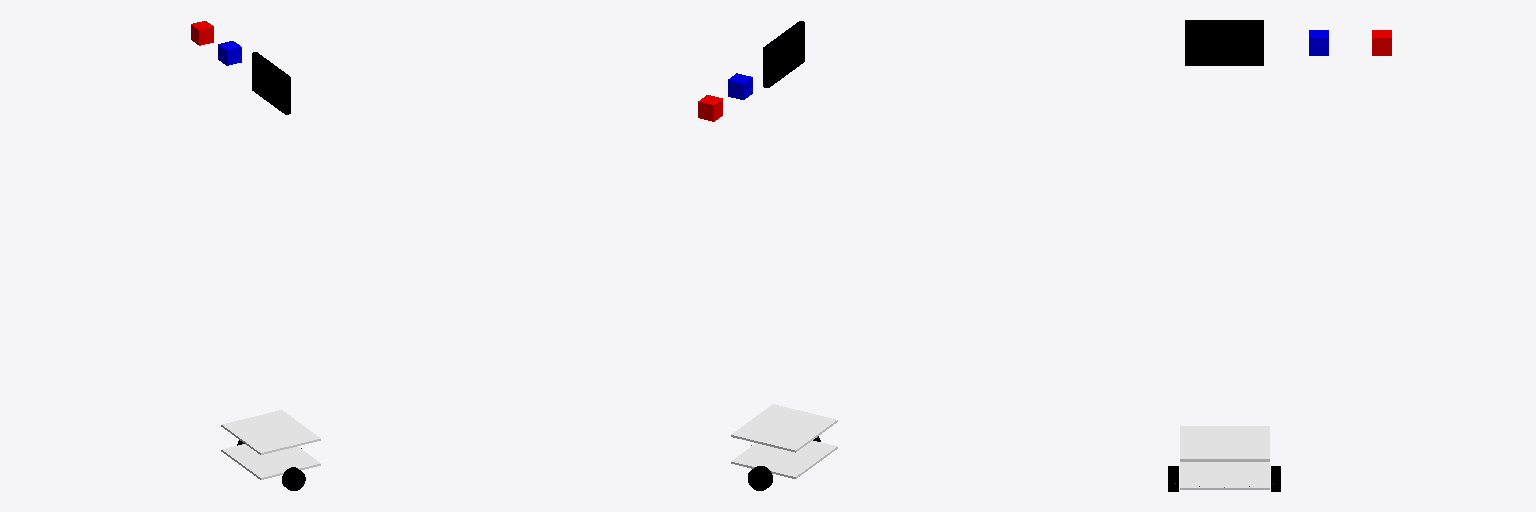
robot.urdf — blah:
<?xml version="1.0" ?>
<!-- =================================================================================== -->
<!-- |    This document was autogenerated by xacro from urdf/navbot.xacro              | -->
<!-- |    EDITING THIS FILE BY HAND IS NOT RECOMMENDED                                 | -->
<!-- =================================================================================== -->
<robot name="blah" xmlns:xacro="http://www.ros.org/wiki/xacro">
  <link name="base_link">
    <visual>
      <geometry>
        <box size="0.001 0.001 0.001"/>
      </geometry>
      <material name="black">
        <color rgba="0 0 0 1"/>
      </material>
    </visual>
  </link>
  <!-- fictitious center point between wheels for navigation -->
  <!--
  <link name="base_link">
    <visual>
      <geometry>
        <box size="0.001 0.001 0.001"/>
      </geometry>
      <material name="black">
        <color rgba="0 0 0 1" />
      </material>
    </visual>
  </link>
-->
  <!-- Bot platforms -->
  <link name="platform_base">
    <visual>
      <geometry>
        <box size="0.2032 0.2286 0.0064"/>
      </geometry>
      <material name="white">
        <color rgba="1 1 1 1"/>
      </material>
    </visual>
  </link>
  <link name="platform_upper">
    <visual>
      <geometry>
        <box size="0.2032 0.2286 0.0064"/>
      </geometry>
      <material name="white">
        <color rgba="1 1 1 1"/>
      </material>
    </visual>
  </link>
  <joint name="platform_joint_base" type="fixed">
    <parent link="base_link"/>
    <child link="platform_base"/>
    <origin rpy="0 0 0" xyz="0 0 0.0178"/>
  </joint>
  <joint name="platform_joint_upper" type="fixed">
    <parent link="base_link"/>
    <child link="platform_upper"/>
    <origin rpy="0 0 0" xyz="0 0 0.0978"/>
  </joint>
  <!--
<link name="kinect_link">
  <visual>
    <geometry>
      <box size="0.064 0.121 0.0381" />
    </geometry>
    <material name="Blue" />
  </visual>
  <inertial>
      <mass value="0.0001" />
      <origin xyz="0 0 0" />
      <inertia ixx="0.0001" ixy="0.0" ixz="0.0"
               iyy="0.0001" iyz="0.0" 
               izz="0.0001" />
  </inertial>
</link>

<joint name="kinect_base_joint" type="fixed">
  <origin xyz="${platform_l / 2} 0 ${wheel_r + wheel_h_offset + 0.08}" rpy="0 0 0" />
  <parent link="base_link" />
  <child link="kinect_link" />
</joint>

<joint name="kinect_depth_joint" type="fixed">
  <origin xyz="0 0.028 0" rpy="0 0 0" />
  <parent link="kinect_link" />
  <child link="kinect_depth_frame" />
</joint>

<link name="kinect_depth_frame">
  <inertial>
      <mass value="0.0001" />
      <origin xyz="0 0 0" />
      <inertia ixx="0.0001" ixy="0.0" ixz="0.0"
               iyy="0.0001" iyz="0.0" 
               izz="0.0001" />
  </inertial>
</link>

<joint name="depth_optical_joint" type="fixed">
  <origin xyz="0 0 0" rpy="-${pi/2} 0 -${pi/2}" />
  <parent link="kinect_depth_frame" />
  <child link="kinect_depth_optical_frame" />
</joint>

<link name="kinect_depth_optical_frame">
  <inertial>
      <mass value="0.0001" />
      <origin xyz="0 0 0" />
      <inertia ixx="0.0001" ixy="0.0" ixz="0.0"
               iyy="0.0001" iyz="0.0" 
               izz="0.0001" />
  </inertial>
</link>
-->
  <!-- Differential Drive Wheels -->
  <link name="wheel_right">
    <visual>
      <geometry>
        <cylinder length="0.0267" radius="0.0328"/>
      </geometry>
      <origin rpy="1.5707963268 0 0"/>
      <material name="black">
        <color rgba="0 0 0 1"/>
      </material>
    </visual>
  </link>
  <link name="wheel_left">
    <visual>
      <geometry>
        <cylinder length="0.0267" radius="0.0328"/>
      </geometry>
      <origin rpy="-1.5707963268 0 0"/>
      <material name="black">
        <color rgba="0 0 0 1"/>
      </material>
    </visual>
  </link>
  <joint name="wheel_left_joint" type="continuous">
    <parent link="base_link"/>
    <child link="wheel_left"/>
    <axis xyz="0 1 0"/>
    <origin rpy="0 0 0" xyz="0 0.13015 0"/>
  </joint>
  <joint name="wheel_right_joint" type="continuous">
    <parent link="base_link"/>
    <child link="wheel_right"/>
    <axis xyz="0 1 0"/>
    <origin rpy="0 0 0" xyz="0 -0.13015 0"/>
  </joint>
  <!-- Sensor Array -->
  <link name="sonar_left">
    <visual>
      <geometry>
        <box size=".0015 0.0046 0.0021"/>
      </geometry>
    </visual>
  </link>
  <link name="sonar_right">
    <visual>
      <geometry>
        <box size=".0015 0.0046 0.0021"/>
      </geometry>
    </visual>
  </link>
  <link name="ir_left">
    <visual>
      <geometry>
        <box size=".0014 0.0030 0.0013"/>
      </geometry>
    </visual>
  </link>
  <link name="ir_center">
    <visual>
      <geometry>
        <box size=".0014 0.0030 0.0013"/>
      </geometry>
    </visual>
  </link>
  <link name="ir_right">
    <visual>
      <geometry>
        <box size=".0014 0.0030 0.0013"/>
      </geometry>
    </visual>
  </link>
  <joint name="sonar_left_joint" type="fixed">
    <parent link="platform_base"/>
    <child link="sonar_left"/>
    <origin rpy="0 0 0.35" xyz="0.0936 0.0635 0.005"/>
  </joint>
  <joint name="sonar_right_joint" type="fixed">
    <parent link="platform_base"/>
    <child link="sonar_right"/>
    <origin rpy="0 0 -0.35" xyz="0.0936 -0.0635 0.005"/>
  </joint>
  <joint name="ir_left_joint" type="fixed">
    <parent link="platform_base"/>
    <child link="ir_left"/>
    <origin rpy="0 0 0.7" xyz="0.0766 0.125 0.005"/>
  </joint>
  <joint name="ir_center_joint" type="fixed">
    <parent link="platform_base"/>
    <child link="ir_center"/>
    <origin rpy="0 0 0" xyz="0.1023 0 0.005"/>
  </joint>
  <joint name="ir_right_joint" type="fixed">
    <parent link="platform_base"/>
    <child link="ir_right"/>
    <origin rpy="0 0 -0.7" xyz="0.0766 -0.125 0.005"/>
  </joint>
  <link name="sonar_left_depth_frame">
    <inertial>
      <mass value="0.0001"/>
      <origin xyz="0 0 0"/>
      <inertia ixx="0.0001" ixy="0.0" ixz="0.0" iyy="0.0001" iyz="0.0" izz="0.0001"/>
    </inertial>
  </link>
  <link name="sonar_right_depth_frame">
    <inertial>
      <mass value="0.0001"/>
      <origin xyz="0 0 0"/>
      <inertia ixx="0.0001" ixy="0.0" ixz="0.0" iyy="0.0001" iyz="0.0" izz="0.0001"/>
    </inertial>
  </link>
  <link name="ir_left_depth_frame">
    <inertial>
      <mass value="0.0001"/>
      <origin xyz="0 0 0"/>
      <inertia ixx="0.0001" ixy="0.0" ixz="0.0" iyy="0.0001" iyz="0.0" izz="0.0001"/>
    </inertial>
  </link>
  <link name="ir_center_depth_frame">
    <inertial>
      <mass value="0.0001"/>
      <origin xyz="0 0 0"/>
      <inertia ixx="0.0001" ixy="0.0" ixz="0.0" iyy="0.0001" iyz="0.0" izz="0.0001"/>
    </inertial>
  </link>
  <link name="ir_right_depth_frame">
    <inertial>
      <mass value="0.0001"/>
      <origin xyz="0 0 0"/>
      <inertia ixx="0.0001" ixy="0.0" ixz="0.0" iyy="0.0001" iyz="0.0" izz="0.0001"/>
    </inertial>
  </link>
  <joint name="sonar_left_depth_joint" type="fixed">
    <origin rpy="0 0 0" xyz="0 0.015 0"/>
    <parent link="sonar_left"/>
    <child link="sonar_left_depth_frame"/>
  </joint>
  <joint name="sonar_right_depth_joint" type="fixed">
    <origin rpy="0 0 0" xyz="0 0.015 0"/>
    <parent link="sonar_right"/>
    <child link="sonar_right_depth_frame"/>
  </joint>
  <joint name="ir_left_depth_joint" type="fixed">
    <origin rpy="0 0 0" xyz="0 0.015 0"/>
    <parent link="ir_left"/>
    <child link="ir_left_depth_frame"/>
  </joint>
  <joint name="ir_center_depth_joint" type="fixed">
    <origin rpy="0 0 0" xyz="0 0.015 0"/>
    <parent link="ir_center"/>
    <child link="ir_center_depth_frame"/>
  </joint>
  <joint name="ir_right_depth_joint" type="fixed">
    <origin rpy="0 0 0" xyz="0 0.015 0"/>
    <parent link="ir_right"/>
    <child link="ir_right_depth_frame"/>
  </joint>
  <link name="head_unit">
    <visual>
      <geometry>
        <box size="0.0160528 0.1992376 0.119888"/>
      </geometry>
      <material name="black">
        <color rgba="0 0 0 1"/>
      </material>
    </visual>
  </link>
  <joint name="base_link_to_head_unit" type="fixed">
    <parent link="base_link"/>
    <child link="head_unit"/>
    <origin rpy="0 0 0" xyz="0 0 1.2192"/>
  </joint>
  <!-- IMU -->
  <link name="imu">
    <visual>
      <geometry>
        <box size="0.0001 0.0001 0.0001"/>
      </geometry>
      <material name="green">
        <color rgba="0 192 0 1"/>
      </material>
    </visual>
  </link>
  <joint name="head_unit_to_imu" type="fixed">
    <parent link="head_unit"/>
    <child link="imu"/>
    <origin rpy="0 0 0" xyz="0 0 0"/>
  </joint>
  <!-- GPS UNIT -->
  <link name="fix">
    <visual>
      <geometry>
        <box size="0.0001 0.0001 0.0001"/>
      </geometry>
      <material name="blue">
        <color rgba="0 0 192 1"/>
      </material>
    </visual>
  </link>
  <joint name="head_unit_to_fix" type="fixed">
    <parent link="head_unit"/>
    <child link="fix"/>
    <origin rpy="0 0 0" xyz="0 0 0"/>
  </joint>
  <link name="depth_camera">
    <visual>
      <geometry>
        <box size="0.05 0.05 0.05"/>
      </geometry>
      <material name="blue">
        <color rgba="0 0 192 1"/>
      </material>
    </visual>
  </link>
  <joint name="head_unit_to_depth_camera" type="fixed">
    <parent link="head_unit"/>
    <child link="depth_camera"/>
    <origin rpy="0 0 0" xyz="0 0.24 0"/>
  </joint>
  <link name="fisheye_camera">
    <visual>
      <geometry>
        <box size="0.05 0.05 0.05"/>
      </geometry>
      <material name="red">
        <color rgba="192 0 0 1"/>
      </material>
    </visual>
  </link>
  <joint name="head_unit_to_fisheye_camera" type="fixed">
    <parent link="head_unit"/>
    <child link="fisheye_camera"/>
    <origin rpy="0 0 0" xyz="0 0.4 0"/>
  </joint>
  <!--
<node pkg="tf" type="static_transform_publisher" name="device_to_depth_cam" args="0 0 0 0 0.24 0 device depth_camera 10"/>
<node pkg="tf" type="static_transform_publisher" name="fisheye_to_depth_cam" args="0 -0.05 0 0 0 0 depth_camera fisheye_camera 10"/>
-->
</robot>

--- What the picture shows (computed from the rendered views, not written in the file) ---
Views: 3 orthographic renders of the robot side by side, from view 1: azimuth 30°, elevation 25°; view 2: azimuth 150°, elevation 25°; view 3: azimuth 270°, elevation 25°.
Robot: blah — 20 links, 19 joints (2 continuous, 17 fixed); root link base_link; default pose: all joints at 0.
Links seen in each view (by area): view 1: platform_upper, platform_base, head_unit; view 2: platform_upper, platform_base, head_unit, fisheye_camera, depth_camera; view 3: head_unit, platform_upper, platform_base.
Link boxes in pixels (bbox=[...]): platform_upper: bbox=[221, 410, 320, 454]; platform_base: bbox=[221, 444, 320, 479]; head_unit: bbox=[252, 52, 290, 114]; platform_upper: bbox=[731, 404, 837, 452]; platform_base: bbox=[731, 440, 837, 478]; head_unit: bbox=[763, 21, 804, 87]; fisheye_camera: bbox=[698, 95, 722, 121]; depth_camera: bbox=[728, 73, 752, 99]; head_unit: bbox=[1185, 20, 1263, 65]; platform_upper: bbox=[1180, 426, 1269, 461]; platform_base: bbox=[1180, 462, 1269, 489].
Bounding box of the posed robot: 0.2046 × 0.5685 × 1.31 m (x, y, z).
Geometry: primitives only (box / cylinder / sphere), no mesh files.